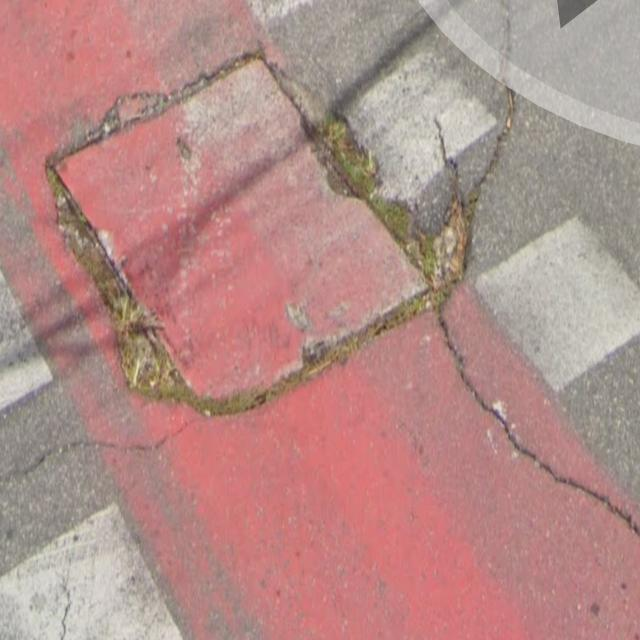Buraco: (41, 0, 490, 439)
